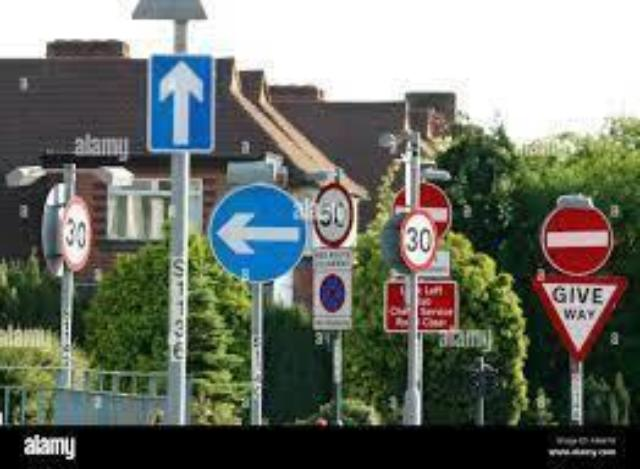B2: (540, 202, 610, 276)
